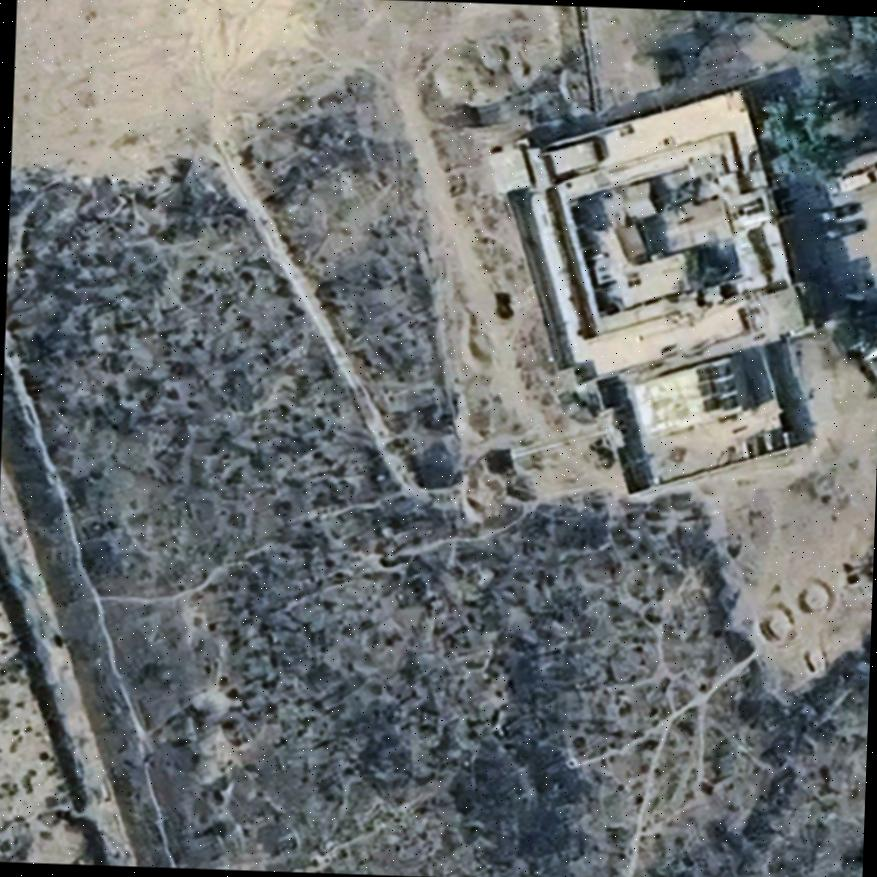Solarpanel: (690, 356, 742, 418), (740, 423, 793, 461)
